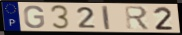2: (152, 6, 175, 31), (76, 6, 97, 29)
3: (50, 4, 71, 31)
G: (23, 5, 46, 30)
I: (101, 5, 112, 31)
R: (123, 5, 152, 31)
